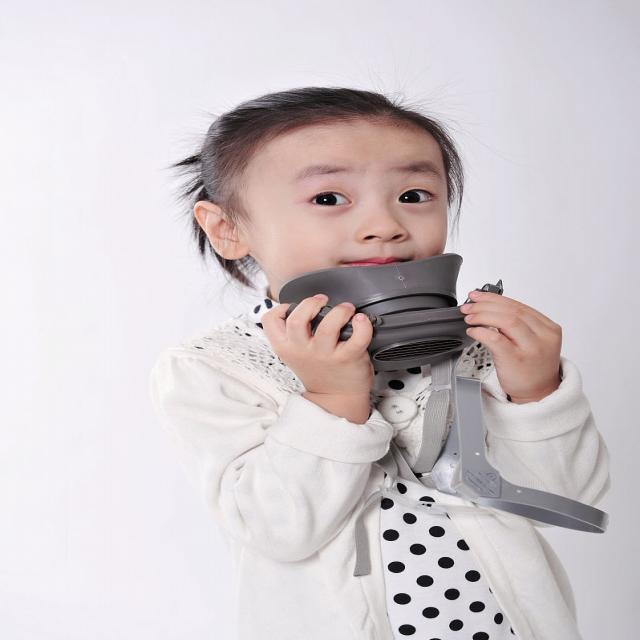mask: (254, 110, 498, 380)
